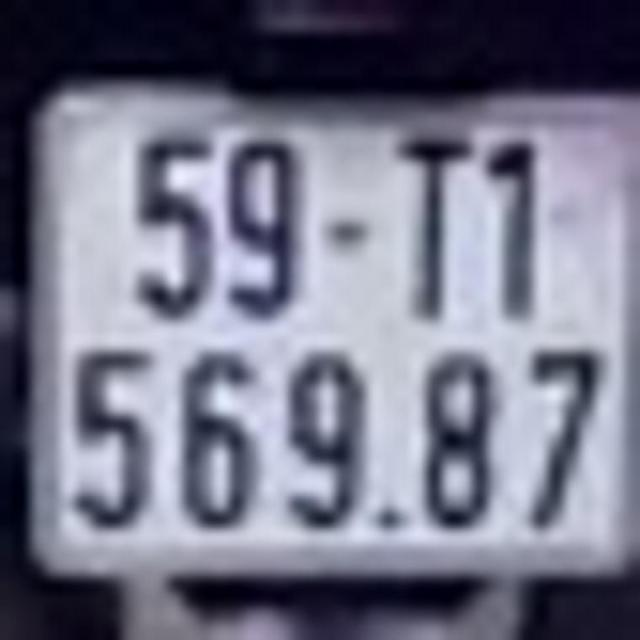1: (484, 141, 536, 314)
5: (76, 350, 151, 524), (141, 138, 212, 317)
6: (181, 352, 254, 530)
7: (529, 345, 599, 529)
8: (425, 351, 490, 530)
9: (285, 348, 359, 526), (227, 142, 293, 318)
T: (398, 138, 470, 322)
